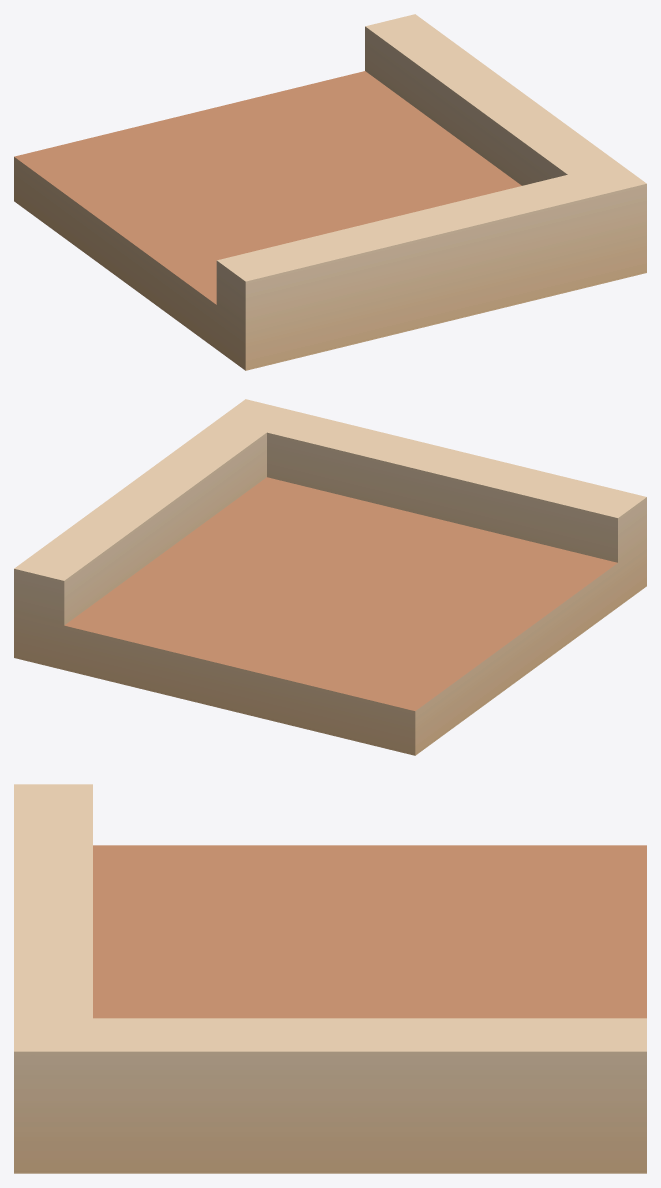
File: roof-flat-border-corner.glb
3 renders of one model, top to bottom at view 1: azimuth 30°, elevation 25°; view 2: azimuth 150°, elevation 25°; view 3: azimuth 270°, elevation 25°, orthographic. The views are drawn at different scales.
Visible parts, largest first — view 1: roof-flat-border-corner; view 2: roof-flat-border-corner; view 3: roof-flat-border-corner.
Part boxes in pixels (x1,y1,x2,y2): roof-flat-border-corner: (14, 14, 646, 370); roof-flat-border-corner: (14, 399, 646, 755); roof-flat-border-corner: (14, 784, 646, 1173).
Bounding box in the file's own units: 1 × 0.2125 × 1.
Materials: 1 (1 with a texture image).
